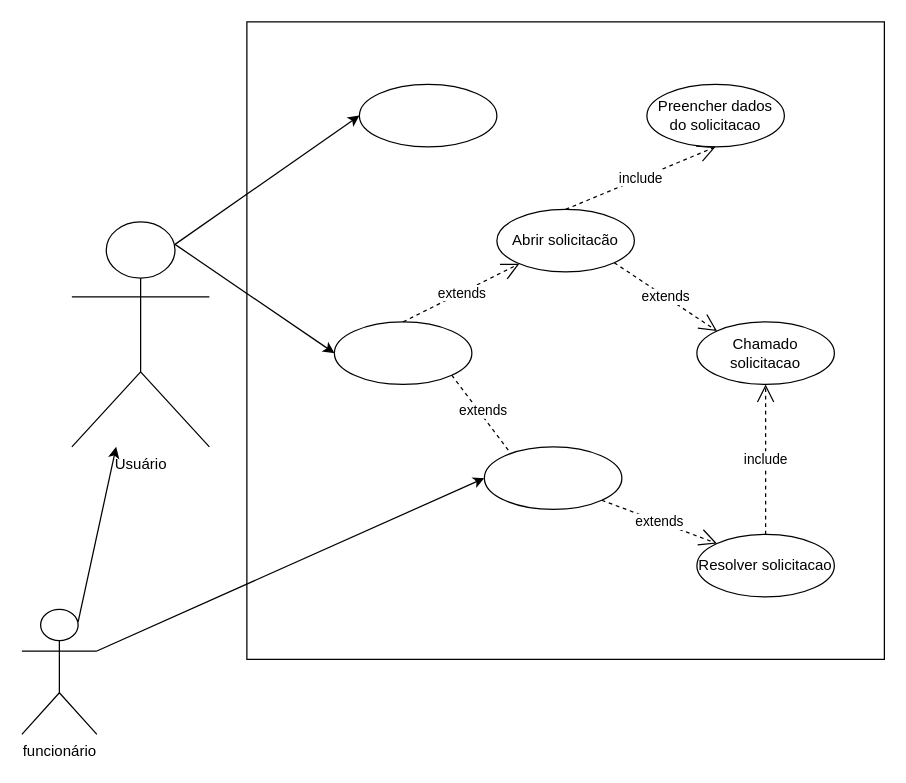
The diagram is 906 pixels wide and 783 high, and some of its shapes have lost their labels. The centre of each missing label's shape, as x and y in pixels:
Cadastrar-se: the point at 427,115
Login: the point at 402,352
Visualizar solicitacao: the point at 552,477
